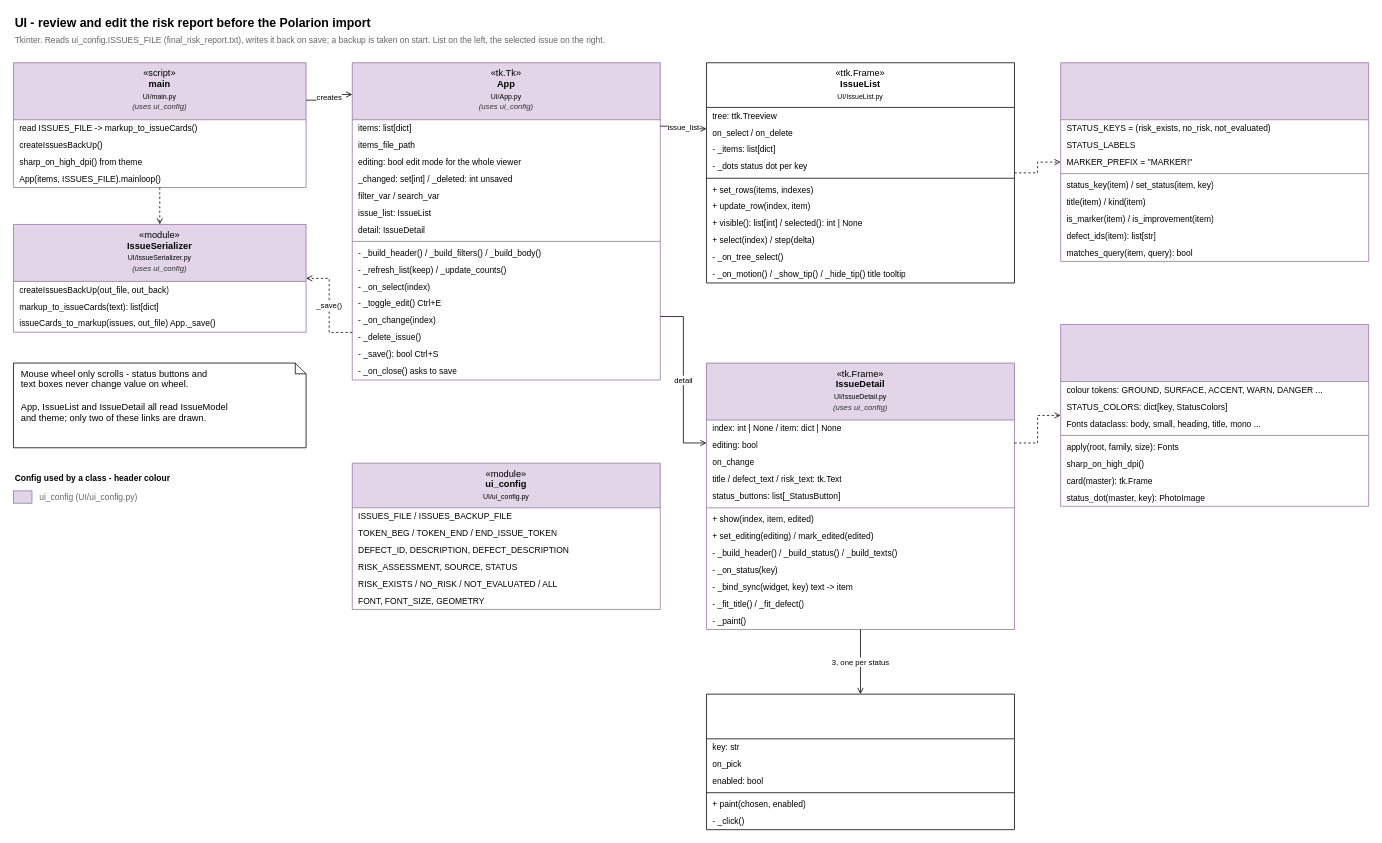
The diagram is 1382 pixels wide and 843 high, and some of its shapes have lost their labels. Here are the shapes that lost their labels. From the top down, the box of each, then its label:
(1060, 62, 1369, 261): «module» IssueModel UI/IssueModel.py (uses ui_config)
(1060, 324, 1369, 506): «module» theme UI/theme.py (also used by the Launcher) (uses ui_config)
(706, 693, 1014, 830): «tk.Frame» _StatusButton UI/IssueDetail.py
